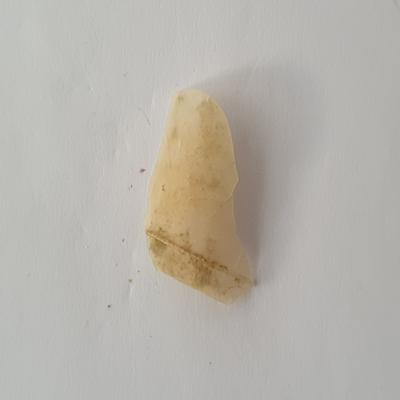plastic: (138, 83, 276, 311)
